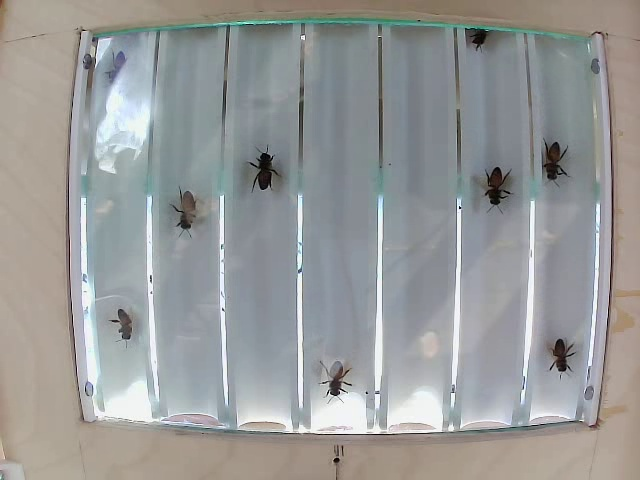bee: (539, 137, 570, 192), (164, 191, 199, 238), (547, 335, 577, 383), (320, 361, 355, 399), (481, 164, 509, 208), (106, 304, 132, 341), (259, 140, 274, 202)
